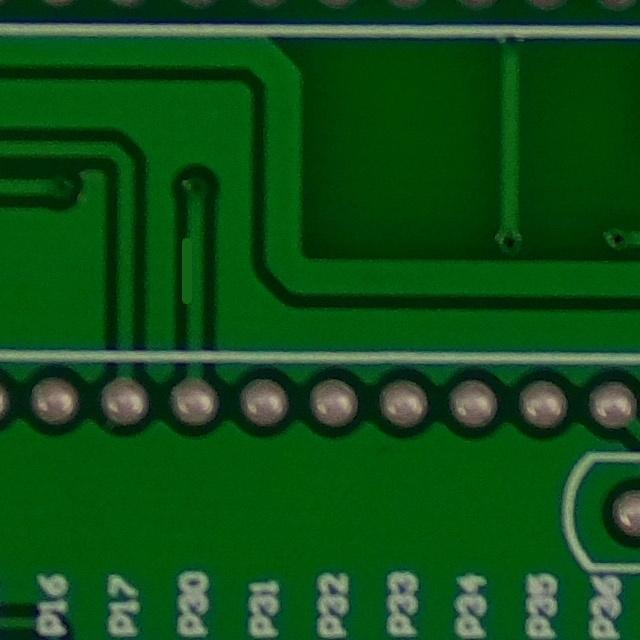spur: (163, 226, 220, 323)
